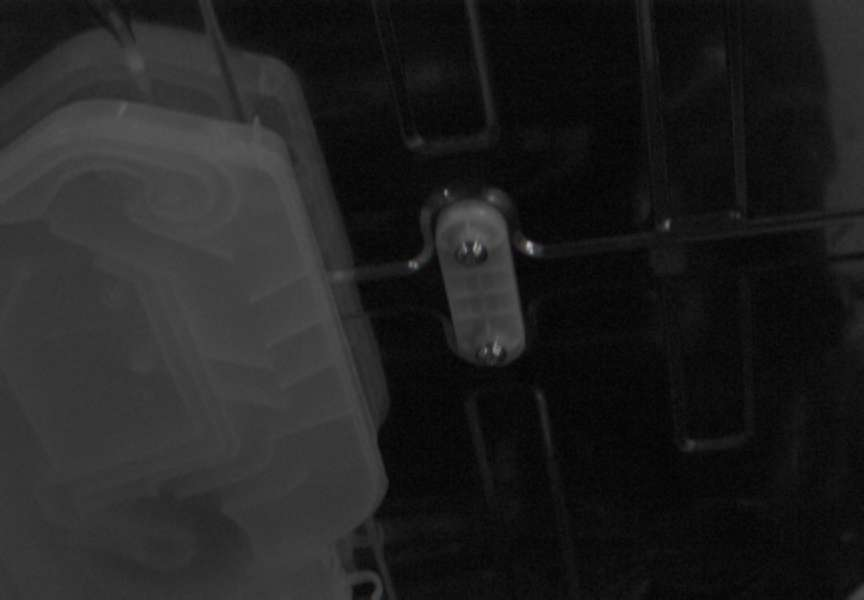screw: (454, 240, 488, 266), (476, 340, 507, 367)
